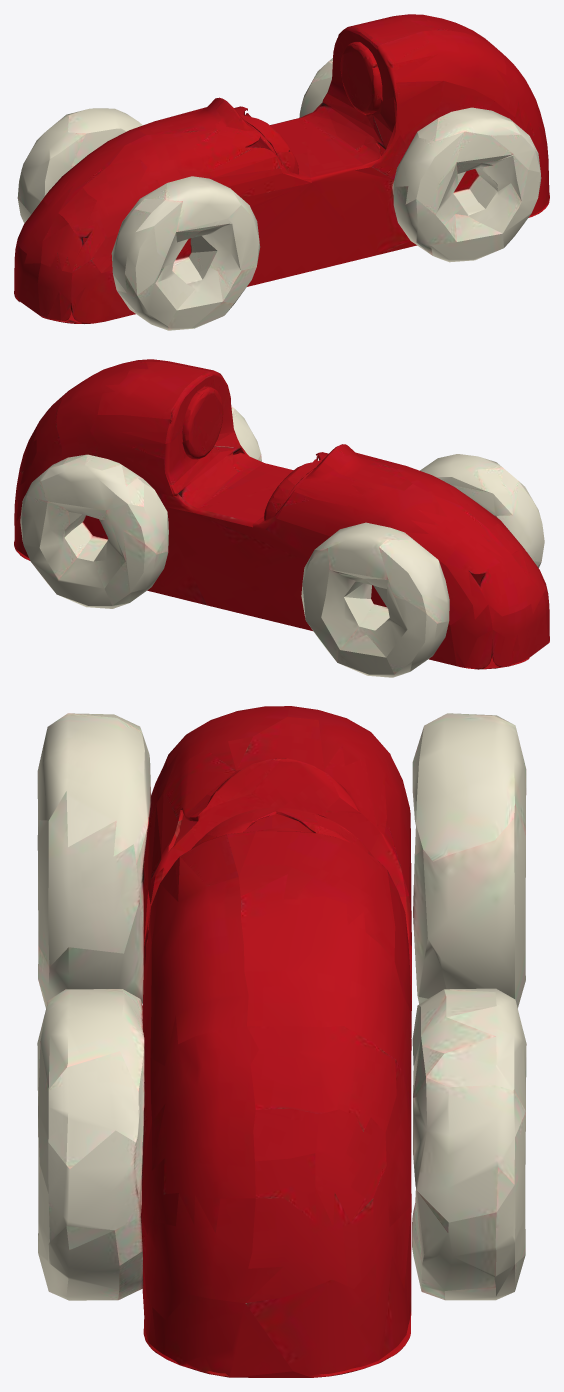
File: toy-car.glb
3 renders of one model, top to bottom at view 1: azimuth 30°, elevation 25°; view 2: azimuth 150°, elevation 25°; view 3: azimuth 270°, elevation 25°, orthographic. The views are drawn at different scales.
Parts seen in each view (by area): view 1: charm-toy-car; view 2: charm-toy-car; view 3: charm-toy-car.
Part boxes in pixels (x1,y1,x2,y2): charm-toy-car: [14, 14, 549, 330]; charm-toy-car: [14, 359, 549, 677]; charm-toy-car: [37, 706, 526, 1377].
Bounding box in the file's own units: 1 × 0.3783 × 0.4152.
1 material, 1 textured.
